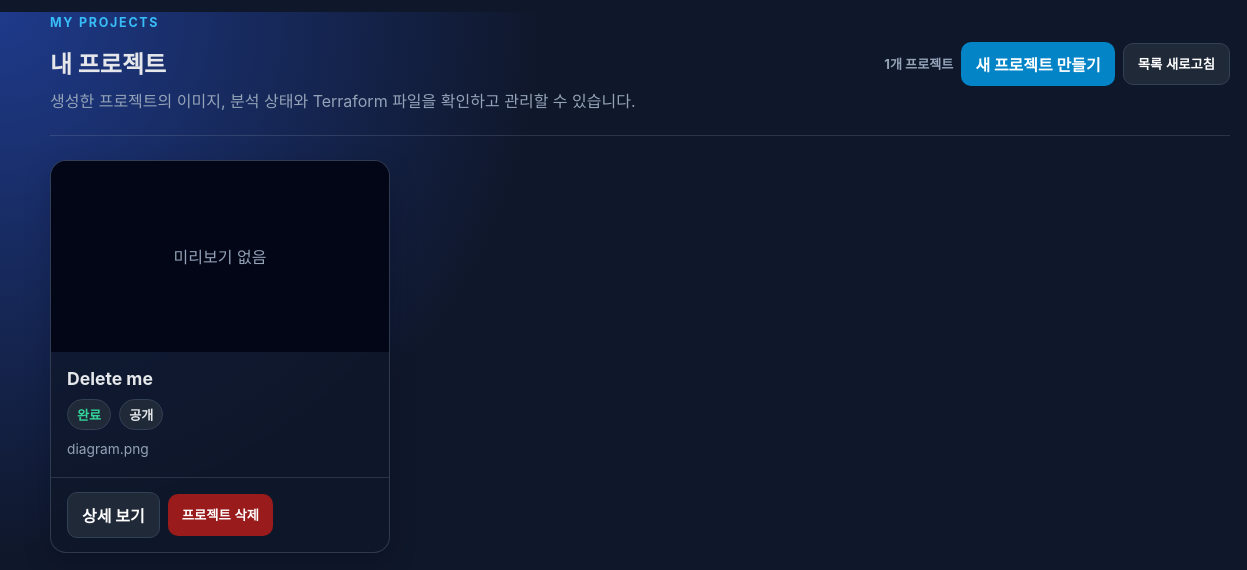
Test: removes a deleted card and shows the empty state without refreshing
Expected: the heading "Delete me" is shown, top-left (67, 368), bottom-right (153, 388)
Click the button with aria-label "Delete me 프로젝트 삭제" at (220,515), box top-left (168, 494), bottom-right (273, 536)
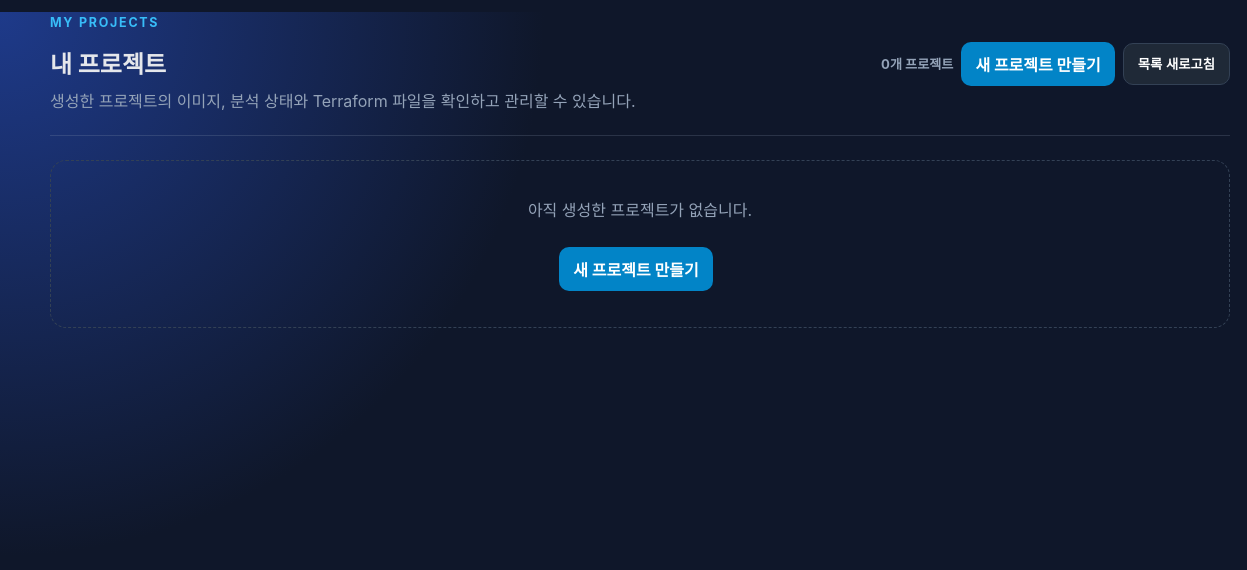
Expected: the text "아직 생성한 프로젝트가 없습니다." is shown, top-left (528, 200), bottom-right (752, 220)
Expected: the text "0개 프로젝트" is shown, top-left (881, 54), bottom-right (953, 73)
